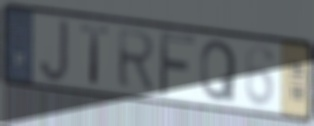6: (243, 42, 277, 110)
F: (157, 28, 198, 101)
J: (38, 17, 71, 85)
Q: (199, 37, 238, 104)
R: (116, 27, 158, 93)
T: (79, 23, 112, 88)
